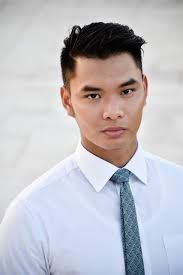no-mask: (51, 26, 164, 151)
